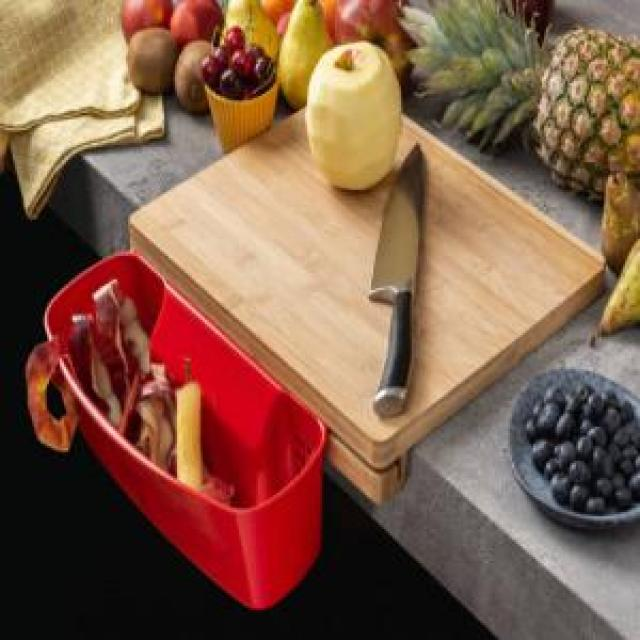knife: (369, 140, 431, 426)
